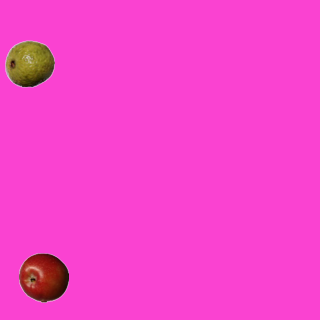Apple Braeburn: (18, 252, 68, 302)
Guava: (4, 38, 54, 88)
